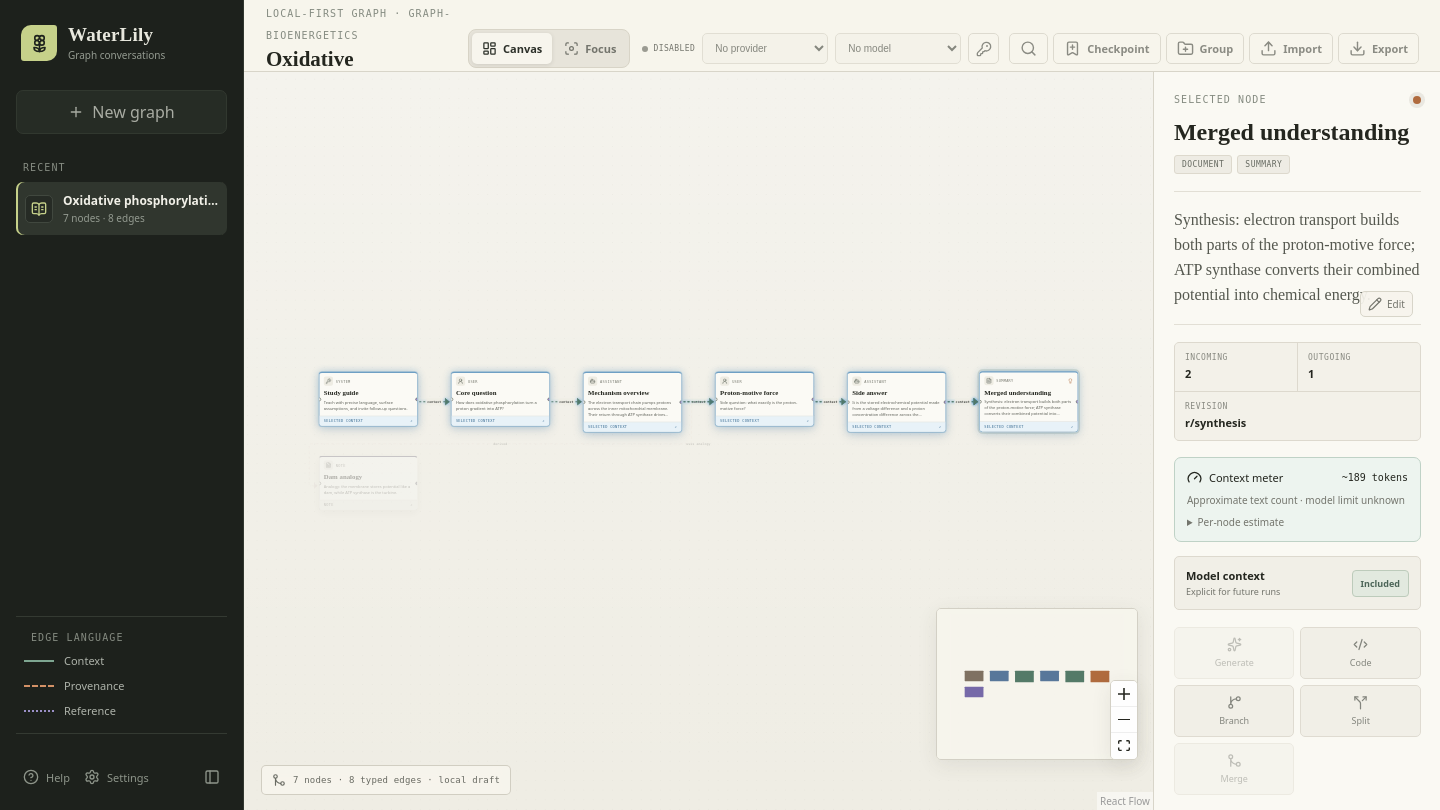
Test case: App › branches and toggles the selected node context explicitly
Click the button "Branch" at (1234, 711), box x1=1174 y1=685 x2=1294 y2=737
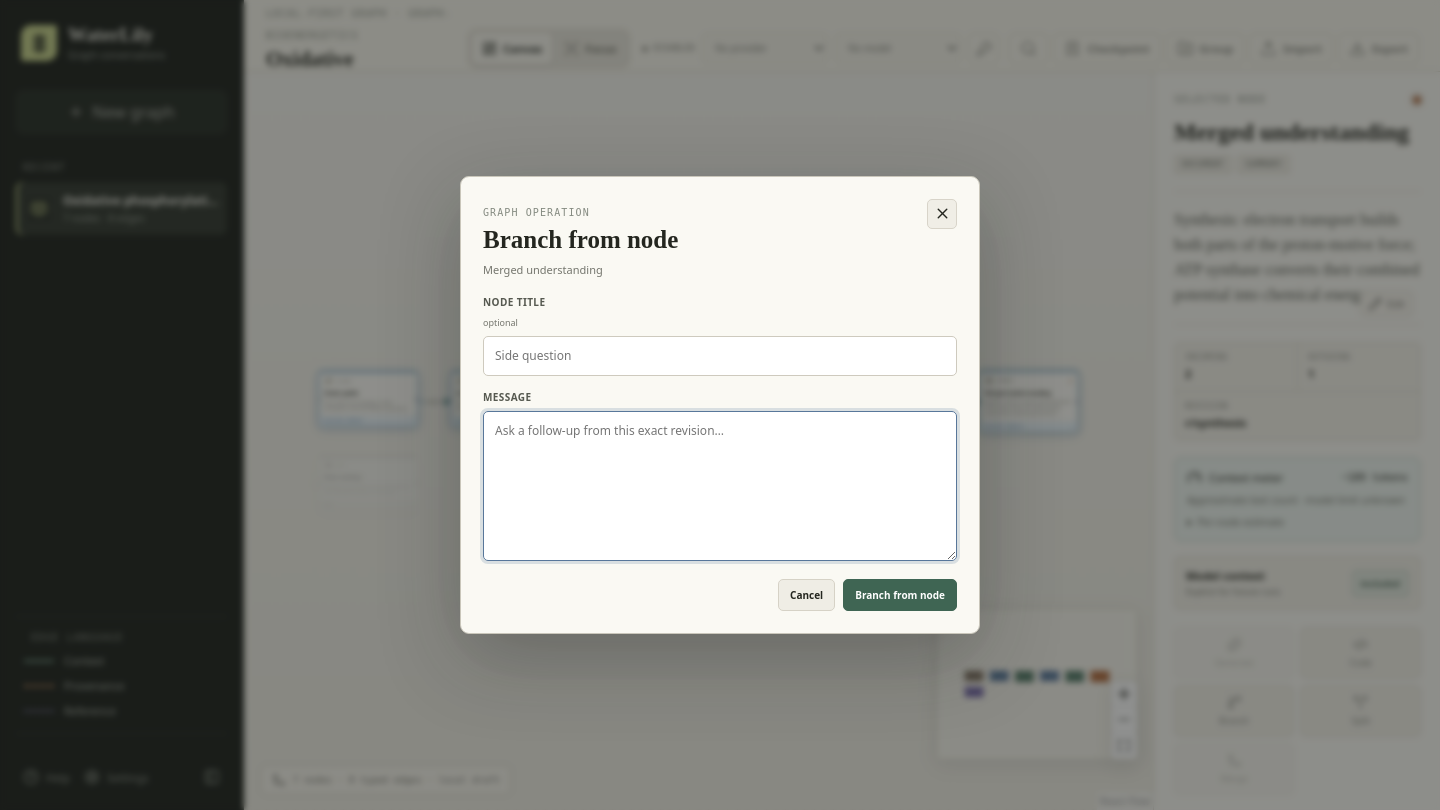
Type "Why does oxygen matter?" into the text box labelled "Message" at (720, 486), box x1=483 y1=411 x2=957 y2=561
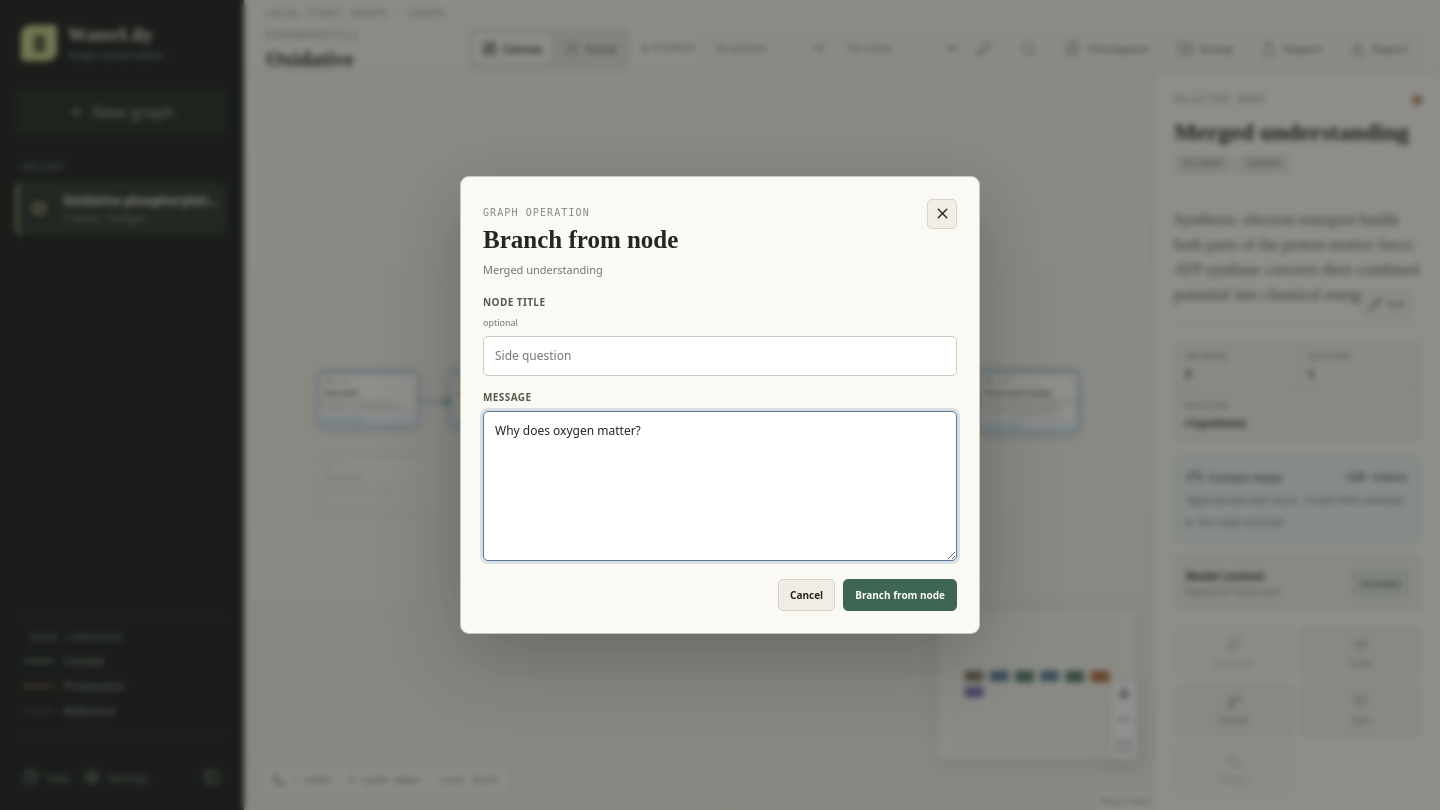
Click the button "Branch from node" at (900, 595), box x1=843 y1=579 x2=957 y2=611
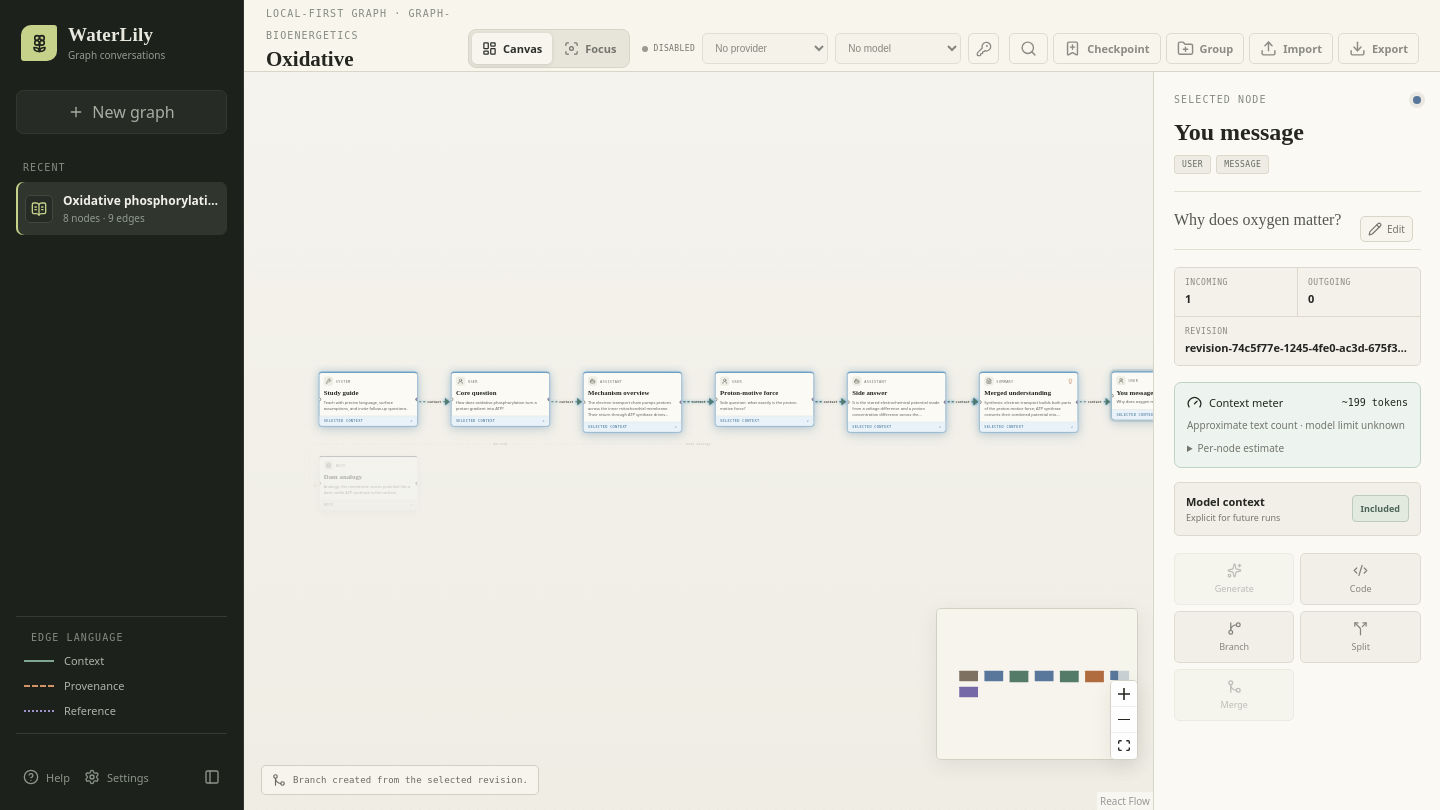
Result: the text "Branch created from the selected revision." is shown at x1=261 y1=765 x2=539 y2=795
Click the button "Included" at (1380, 509), box x1=1352 y1=495 x2=1409 y2=522
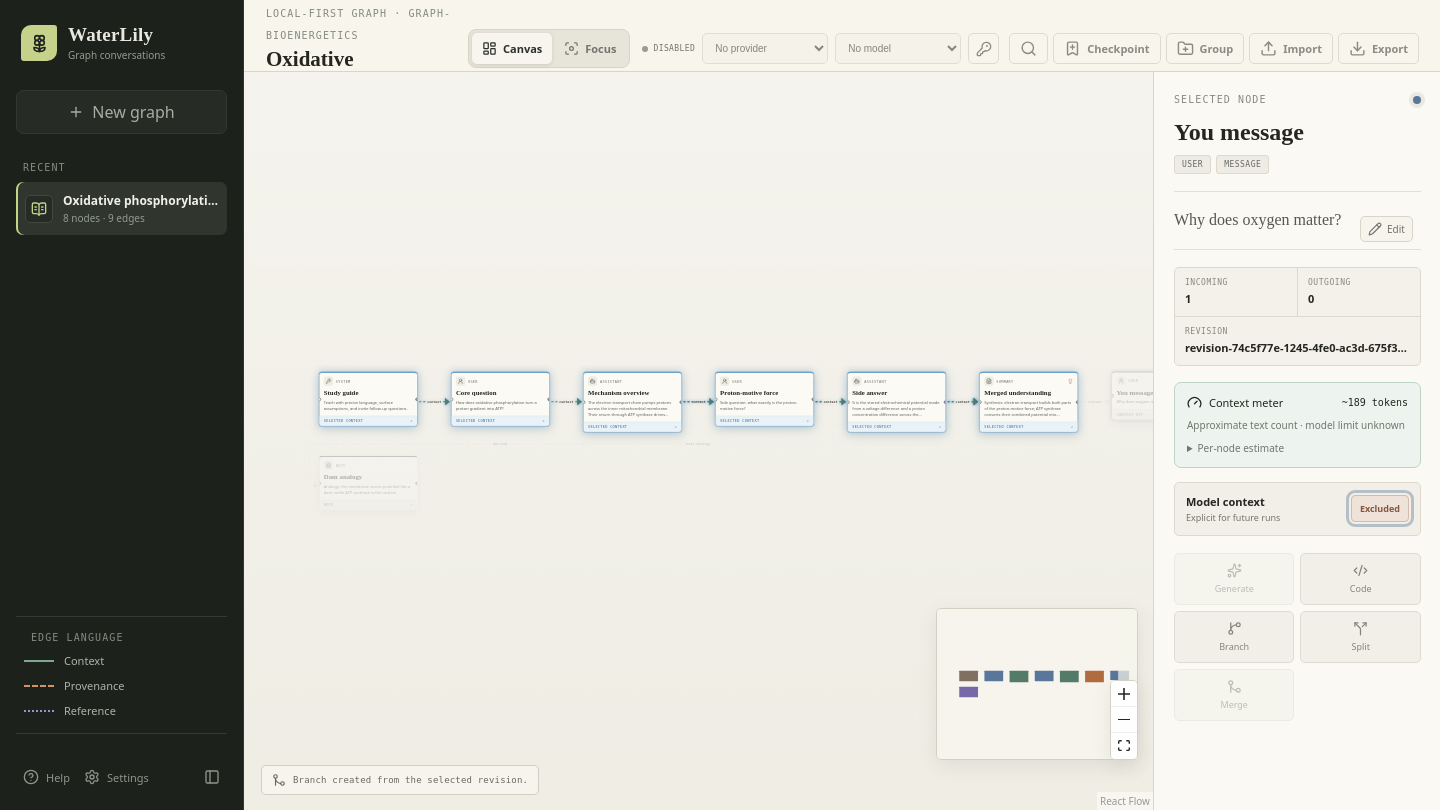
Result: the button "Excluded" is shown at x1=1351 y1=495 x2=1409 y2=522
